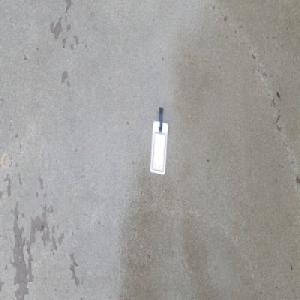LuggageTag: (148, 106, 168, 176)
